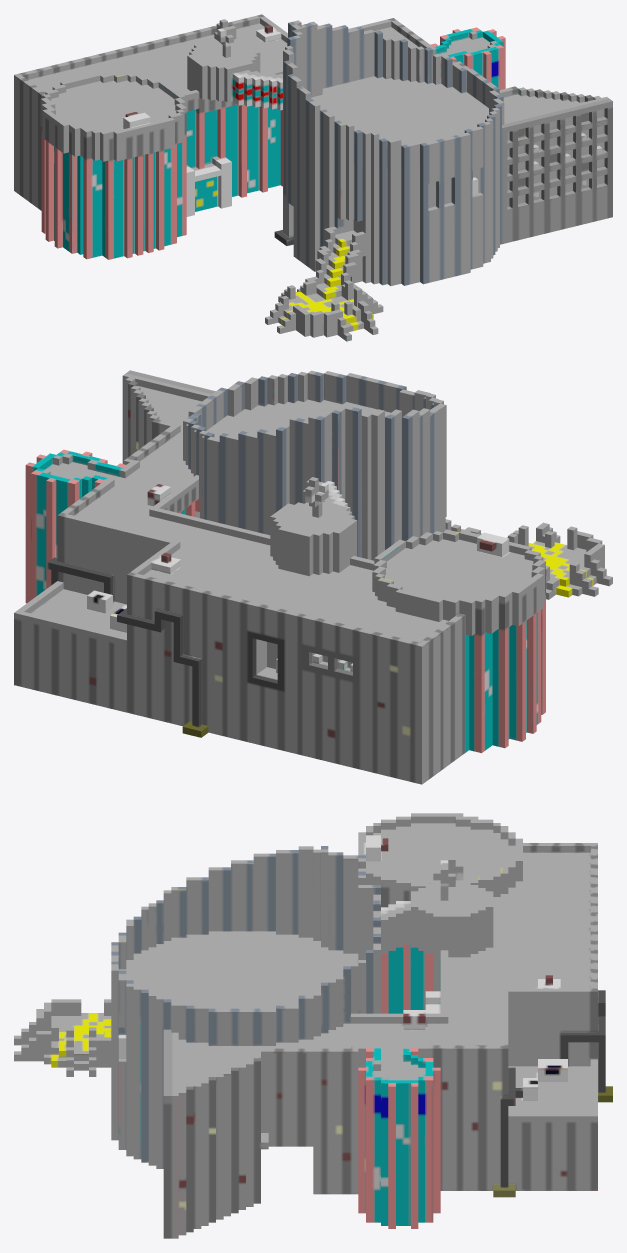
File: kagakukan.glb
3 views of the same model, one above another, from view 1: azimuth 30°, elevation 25°; view 2: azimuth 150°, elevation 25°; view 3: azimuth 270°, elevation 25° (orthographic). The views are drawn at different scales.
Parts seen in each view (by area): view 1: kagakukan; view 2: kagakukan; view 3: kagakukan.
Part boxes in pixels (x1,y1,x2,y2): kagakukan: [14, 14, 612, 341]; kagakukan: [14, 370, 612, 784]; kagakukan: [14, 813, 612, 1238].
Size of the model in its own units: 1.7 by 0.7 by 1.6.
1 material, 1 textured.
